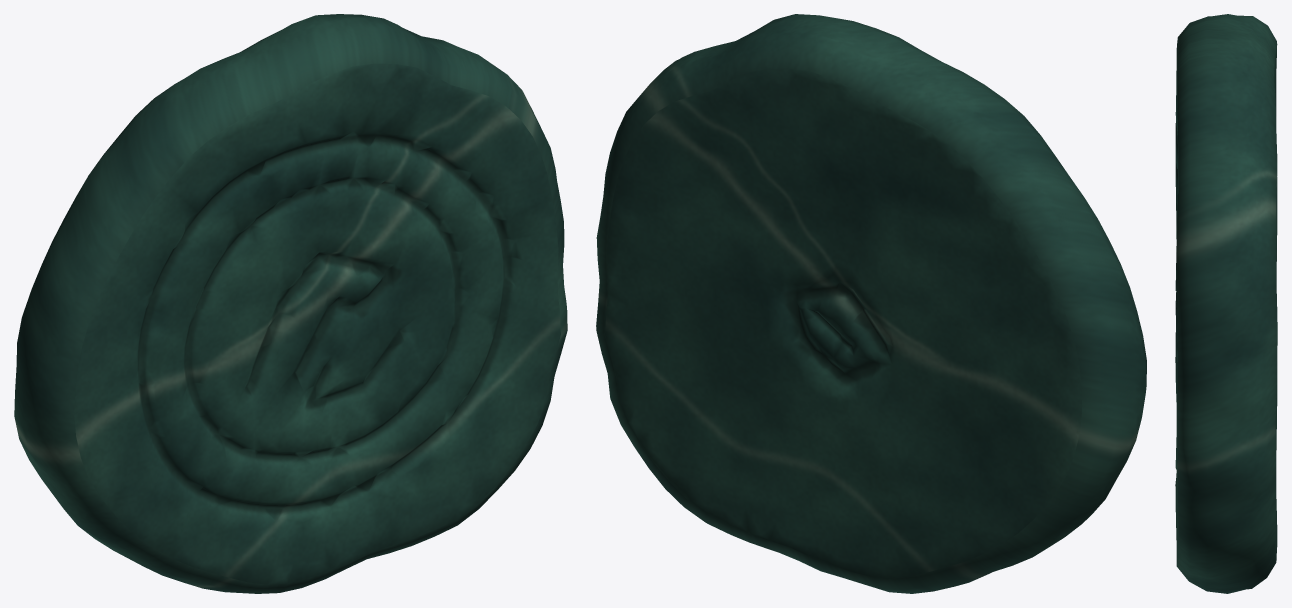
The model's file is coin_demon_green_ore.glb.
3 views of the same model, side by side, from view 1: azimuth 30°, elevation 25°; view 2: azimuth 150°, elevation 25°; view 3: azimuth 270°, elevation 25° (orthographic). The views are drawn at different scales.
Parts seen in each view (by area): view 1: Green ore; view 2: Green ore; view 3: Green ore.
Boxes of the visible parts, <box> form: Green ore: <box>14,14,567,593</box>; Green ore: <box>596,14,1146,593</box>; Green ore: <box>1175,14,1277,593</box>.
Size of the model in its own units: 0.9209 by 0.9042 by 0.1617.
1 material, 1 textured.
